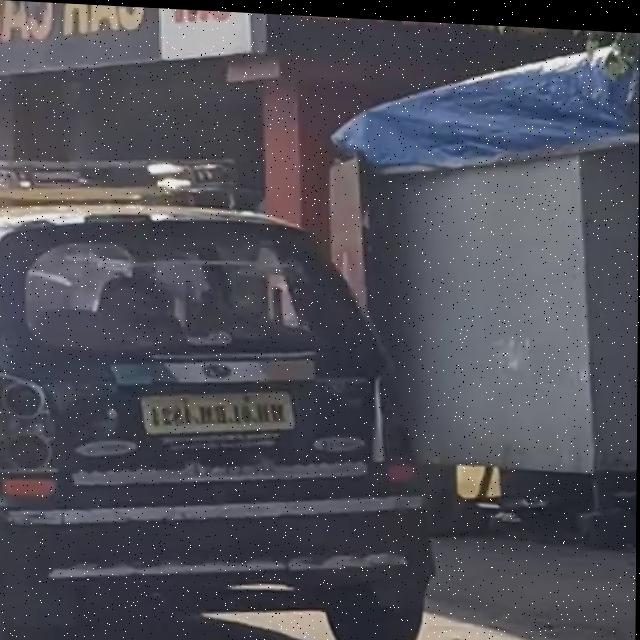plate: (140, 378, 300, 440)
